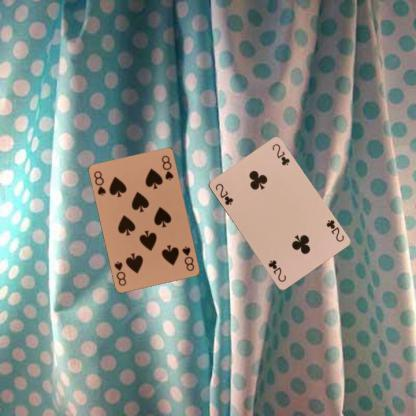2c: (323, 217, 345, 243), (213, 181, 234, 206)
8s: (92, 168, 108, 197), (180, 244, 196, 272)
